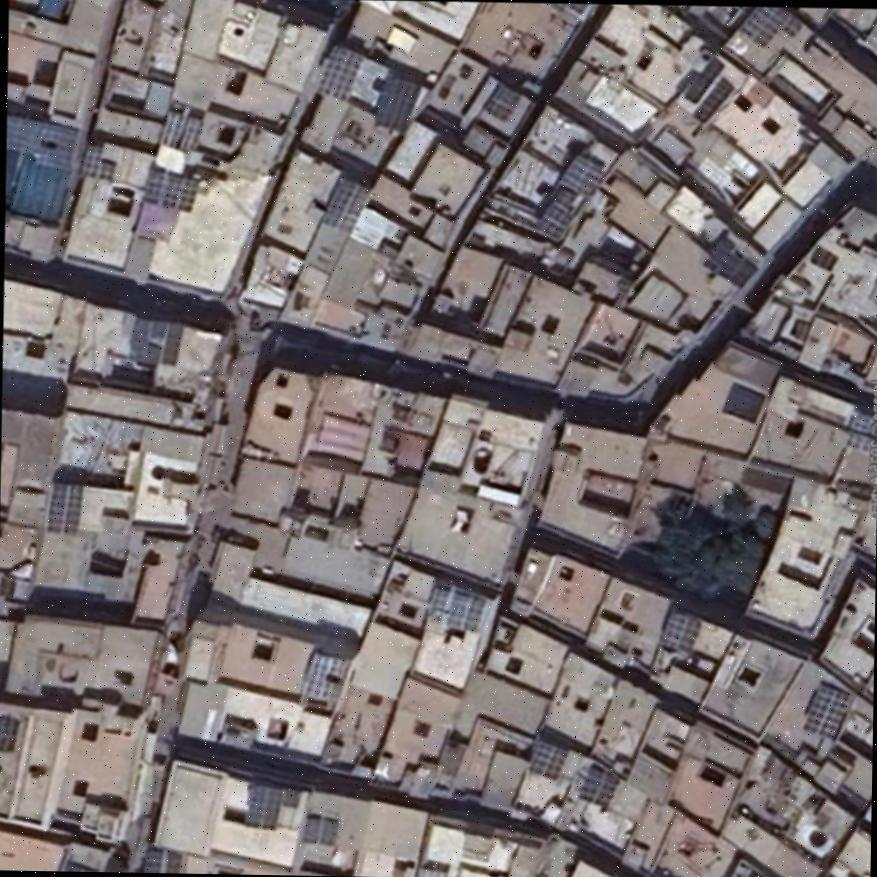Solarpanel: (5, 117, 74, 170), (140, 163, 200, 212), (317, 42, 365, 101), (299, 650, 346, 709), (323, 169, 369, 228), (373, 74, 418, 132), (425, 585, 481, 630), (804, 686, 852, 738), (689, 74, 735, 124), (556, 152, 607, 195), (741, 6, 794, 46), (682, 56, 724, 103), (43, 481, 79, 534), (242, 783, 282, 830), (158, 110, 205, 149), (579, 764, 618, 808), (661, 610, 701, 649), (485, 81, 521, 122), (529, 740, 568, 777), (844, 411, 876, 454), (300, 812, 338, 846), (78, 145, 100, 180), (0, 714, 17, 751)
